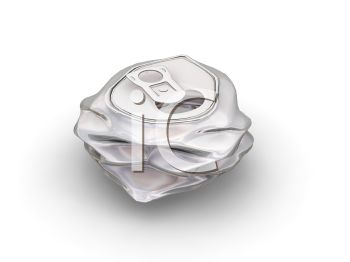can: (72, 53, 255, 206)
